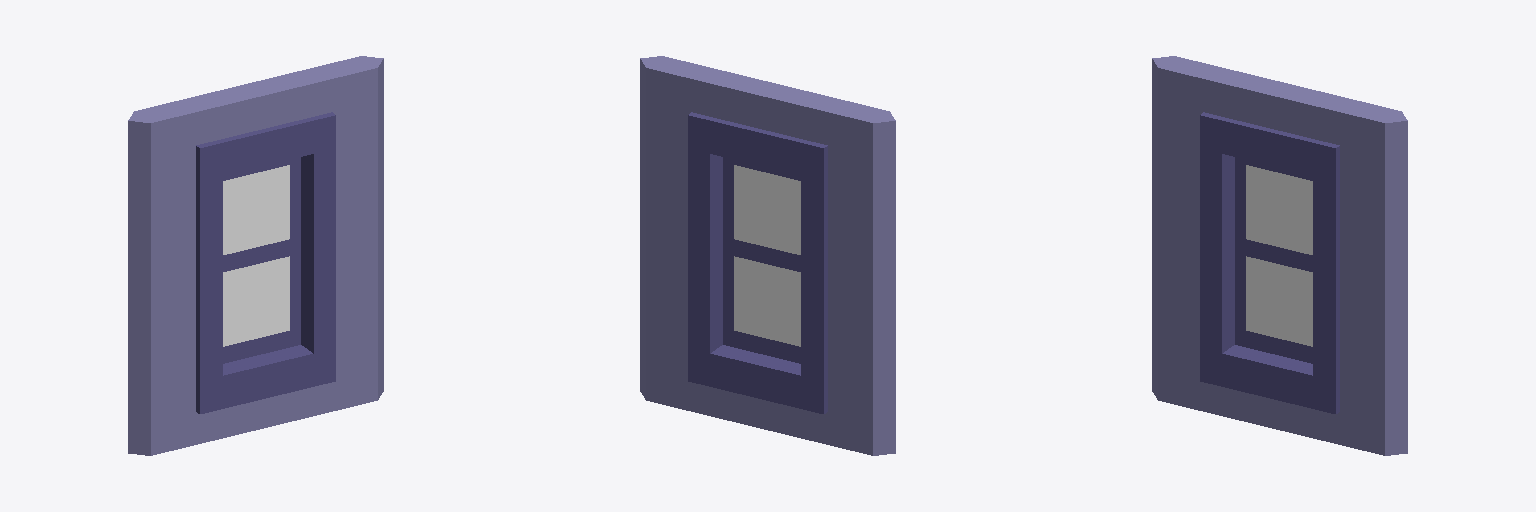
3 renders of one model, left to right at view 1: azimuth 30°, elevation 25°; view 2: azimuth 150°, elevation 25°; view 3: azimuth 330°, elevation 25°, orthographic.
Visible parts, largest first — view 1: mergedBlocks; view 2: mergedBlocks; view 3: mergedBlocks.
Boxes of the visible parts, box(x1,y1,x2,y2) form: mergedBlocks: box(128, 56, 383, 455); mergedBlocks: box(640, 56, 895, 455); mergedBlocks: box(1152, 56, 1407, 455).
Bounding box in the file's own units: 1.12 × 1.4 × 0.185.
1 materials, 1 textured.